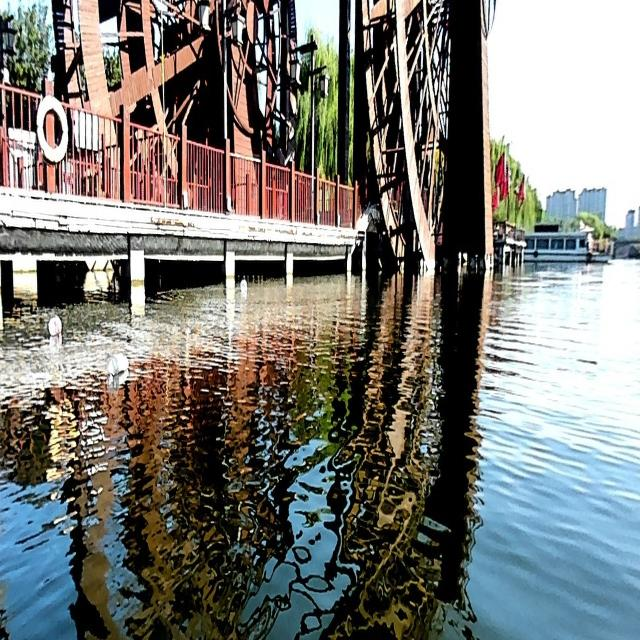bottle: (108, 351, 128, 374), (48, 314, 60, 337), (240, 279, 247, 290)
